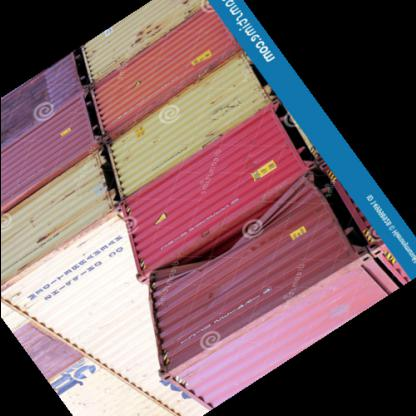Damage: (175, 193, 284, 275)
